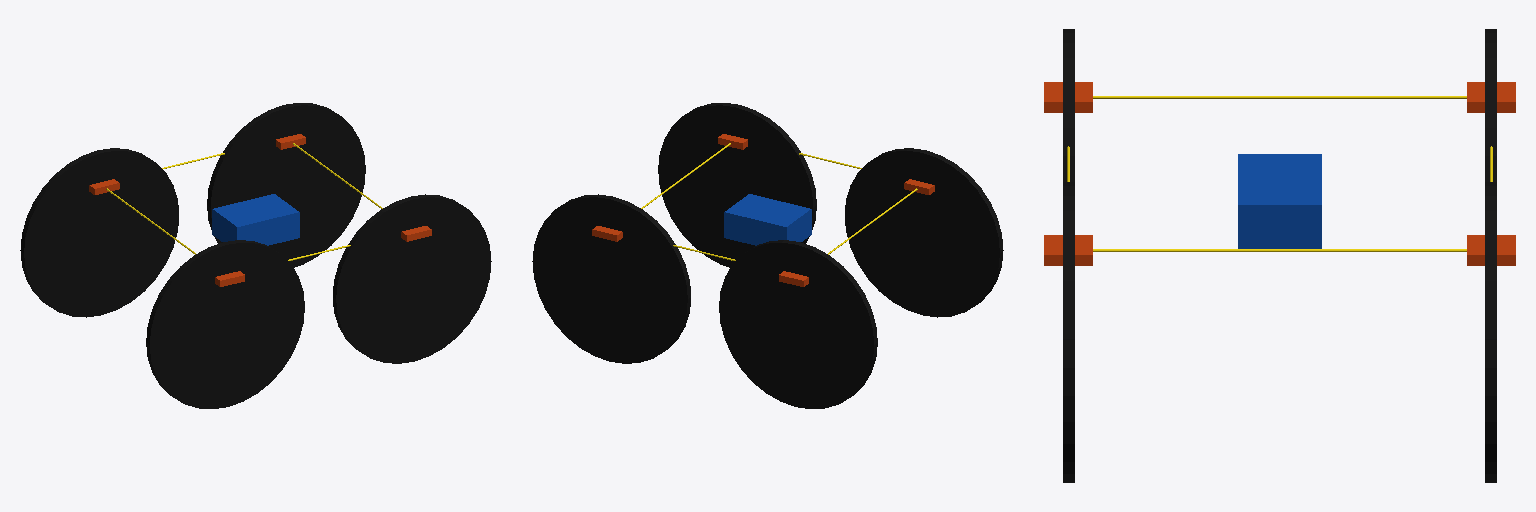
robot.urdf — goat:
<?xml version="1.0"?>
<!--
  GOAT Robot URDF — Version 5 (Separate Bodies with Soft Joints)
  
  KEY FIX: Use revolute joints with high stiffness instead of fixed joints
  This keeps segments, lenses, eyelets as SEPARATE BODIES visible to Genesis
  while maintaining rigid structure via joint damping/friction.
  
  Genesis would merge fixed-joint connects into single body,
  but revolute joints with friction keep things separate and force-addressable.
-->
<robot name="goat">

  <material name="fiberglass"><color rgba="0.95 0.85 0.10 1.0"/></material>
  <material name="payload_box"><color rgba="0.10 0.35 0.70 1.0"/></material>
  <material name="wheel_dark"><color rgba="0.12 0.12 0.12 1.0"/></material>
  <material name="connector"><color rgba="0.80 0.30 0.10 1.0"/></material>

  <!-- BASE PAYLOAD (1.8 kg) -->
  <link name="payload">
    <visual>
      <origin xyz="0 0 0" rpy="0 0 0"/>
      <geometry><box size="0.20 0.14 0.08"/></geometry>
      <material name="payload_box"/>
    </visual>
    <collision>
      <origin xyz="0 0 0" rpy="0 0 0"/>
      <geometry><box size="0.20 0.14 0.08"/></geometry>
    </collision>
    <inertial>
      <origin xyz="0 0 0" rpy="0 0 0"/>
      <mass value="1.80"/>
      <inertia ixx="0.003940" ixy="0" ixz="0"
               iyy="0.005150" iyz="0"
               izz="0.006720"/>
    </inertial>
  </link>

  <!-- ════════════════════════════════════════════════════════════════════
       CORNER 1: FRONT-LEFT (0.30, +0.35)
  ════════════════════════════════════════════════════════════════════ -->
  
  <link name="lens_FL">
    <visual>
      <origin xyz="0 0 0" rpy="0 0 0"/>
      <geometry><box size="0.08 0.08 0.02"/></geometry>
      <material name="connector"/>
    </visual>
    <collision>
      <origin xyz="0 0 0" rpy="0 0 0"/>
      <geometry><box size="0.08 0.08 0.02"/></geometry>
    </collision>
    <inertial>
      <origin xyz="0 0 0" rpy="0 0 0"/>
      <mass value="0.010"/>
      <inertia ixx="0.000011" ixy="0" ixz="0"
               iyy="0.000011" iyz="0"
               izz="0.000011"/>
    </inertial>
  </link>
  <!-- Use revolute joint with high stiffness to keep as separate body -->
  <joint name="j_payload_to_lens_FL" type="revolute">
    <parent link="payload"/>
    <child link="lens_FL"/>
    <origin xyz="0.30 0.35 0.05" rpy="0 0 0"/>
    <axis xyz="0 0 1"/>
    <limit lower="-0.001" upper="0.001" effort="100" velocity="10"/>
    <dynamics damping="50" friction="50"/>
  </joint>

  <!-- Wheel FL -->
  <link name="wheel_FL">
    <visual>
      <origin xyz="0 0 0" rpy="1.5708 0 0"/>
      <geometry><cylinder radius="0.2500" length="0.02"/></geometry>
      <material name="wheel_dark"/>
    </visual>
    <collision>
      <origin xyz="0 0 0" rpy="1.5708 0 0"/>
      <geometry><cylinder radius="0.2500" length="0.02"/></geometry>
    </collision>
    <inertial>
      <origin xyz="0 0 0" rpy="1.5708 0 0"/>
      <mass value="0.050"/>
      <inertia ixx="0.000800" ixy="0" ixz="0"
               iyy="0.001550" iyz="0"
               izz="0.000800"/>
    </inertial>
  </link>
  <joint name="wheel_FL_joint" type="continuous">
    <parent link="lens_FL"/>
    <child link="wheel_FL"/>
    <origin xyz="0 0 -0.15" rpy="0 0 0"/>
    <axis xyz="0 1 0"/>
    <dynamics damping="0.3" friction="0.05"/>
  </joint>

  <!-- Eyelet F (Front) -->
  <link name="eyelet_F">
    <visual>
      <origin xyz="0 0 0" rpy="0 0 0"/>
      <geometry><sphere radius="0.008"/></geometry>
      <material name="connector"/>
    </visual>
    <collision>
      <origin xyz="0 0 0" rpy="0 0 0"/>
      <geometry><sphere radius="0.008"/></geometry>
    </collision>
    <inertial>
      <origin xyz="0 0 0" rpy="0 0 0"/>
      <mass value="0.002"/>
      <inertia ixx="0.000001" ixy="0" ixz="0"
               iyy="0.000001" iyz="0"
               izz="0.000001"/>
    </inertial>
  </link>
  <joint name="j_lens_FL_to_eyelet_F" type="revolute">
    <parent link="lens_FL"/>
    <child link="eyelet_F"/>
    <origin xyz="0 0 -0.01" rpy="0 0 0"/>
    <axis xyz="1 0 0"/>
    <limit lower="-0.001" upper="0.001" effort="100" velocity="10"/>
    <dynamics damping="50" friction="50"/>
  </joint>

  <!-- SEGMENT 1: FRONT (0.70m, Y-axis) -->
  <link name="seg_front">
    <visual>
      <origin xyz="0 0 0" rpy="1.5708 0 0"/>
      <geometry><cylinder radius="0.0025" length="0.70"/></geometry>
      <material name="fiberglass"/>
    </visual>
    <collision>
      <origin xyz="0 0 0" rpy="1.5708 0 0"/>
      <geometry><cylinder radius="0.0025" length="0.70"/></geometry>
    </collision>
    <inertial>
      <origin xyz="0 0 0" rpy="1.5708 0 0"/>
      <mass value="0.09"/>
      <inertia ixx="0.00000062" ixy="0" ixz="0"
               iyy="0.0029167" iyz="0"
               izz="0.0029167"/>
    </inertial>
  </link>
  <joint name="j_payload_to_seg_front" type="revolute">
    <parent link="payload"/>
    <child link="seg_front"/>
    <origin xyz="0.30 0 0.05" rpy="0 0 0"/>
    <axis xyz="0 0 1"/>
    <limit lower="-0.001" upper="0.001" effort="100" velocity="10"/>
    <dynamics damping="50" friction="50"/>
  </joint>

  <!-- ════════════════════════════════════════════════════════════════════
       CORNER 2: FRONT-RIGHT (0.30, -0.35)
  ════════════════════════════════════════════════════════════════════ -->
  
  <link name="lens_FR">
    <visual>
      <origin xyz="0 0 0" rpy="0 0 0"/>
      <geometry><box size="0.08 0.08 0.02"/></geometry>
      <material name="connector"/>
    </visual>
    <collision>
      <origin xyz="0 0 0" rpy="0 0 0"/>
      <geometry><box size="0.08 0.08 0.02"/></geometry>
    </collision>
    <inertial>
      <origin xyz="0 0 0" rpy="0 0 0"/>
      <mass value="0.010"/>
      <inertia ixx="0.000011" ixy="0" ixz="0"
               iyy="0.000011" iyz="0"
               izz="0.000011"/>
    </inertial>
  </link>
  <joint name="j_payload_to_lens_FR" type="revolute">
    <parent link="payload"/>
    <child link="lens_FR"/>
    <origin xyz="0.30 -0.35 0.05" rpy="0 0 0"/>
    <axis xyz="0 0 1"/>
    <limit lower="-0.001" upper="0.001" effort="100" velocity="10"/>
    <dynamics damping="50" friction="50"/>
  </joint>

  <!-- Wheel FR -->
  <link name="wheel_FR">
    <visual>
      <origin xyz="0 0 0" rpy="1.5708 0 0"/>
      <geometry><cylinder radius="0.2500" length="0.02"/></geometry>
      <material name="wheel_dark"/>
    </visual>
    <collision>
      <origin xyz="0 0 0" rpy="1.5708 0 0"/>
      <geometry><cylinder radius="0.2500" length="0.02"/></geometry>
    </collision>
    <inertial>
      <origin xyz="0 0 0" rpy="1.5708 0 0"/>
      <mass value="0.050"/>
      <inertia ixx="0.001550" ixy="0" ixz="0"
               iyy="0.000800" iyz="0"
               izz="0.000800"/>
    </inertial>
  </link>
  <joint name="wheel_FR_joint" type="continuous">
    <parent link="lens_FR"/>
    <child link="wheel_FR"/>
    <origin xyz="0 0 -0.15" rpy="0 0 0"/>
    <axis xyz="1 0 0"/>
    <dynamics damping="0.3" friction="0.05"/>
  </joint>

  <!-- Eyelet R (Right) -->
  <link name="eyelet_R">
    <visual>
      <origin xyz="0 0 0" rpy="0 0 0"/>
      <geometry><sphere radius="0.008"/></geometry>
      <material name="connector"/>
    </visual>
    <collision>
      <origin xyz="0 0 0" rpy="0 0 0"/>
      <geometry><sphere radius="0.008"/></geometry>
    </collision>
    <inertial>
      <origin xyz="0 0 0" rpy="0 0 0"/>
      <mass value="0.002"/>
      <inertia ixx="0.000001" ixy="0" ixz="0"
               iyy="0.000001" iyz="0"
               izz="0.000001"/>
    </inertial>
  </link>
  <joint name="j_lens_FR_to_eyelet_R" type="revolute">
    <parent link="lens_FR"/>
    <child link="eyelet_R"/>
    <origin xyz="0 0 -0.01" rpy="0 0 0"/>
    <axis xyz="1 0 0"/>
    <limit lower="-0.001" upper="0.001" effort="100" velocity="10"/>
    <dynamics damping="50" friction="50"/>
  </joint>

  <!-- SEGMENT 2: RIGHT (0.60m, X-axis) -->
  <link name="seg_right">
    <visual>
      <origin xyz="0 0 0" rpy="0 1.5708 0"/>
      <geometry><cylinder radius="0.0025" length="0.60"/></geometry>
      <material name="fiberglass"/>
    </visual>
    <collision>
      <origin xyz="0 0 0" rpy="0 1.5708 0"/>
      <geometry><cylinder radius="0.0025" length="0.60"/></geometry>
    </collision>
    <inertial>
      <origin xyz="0 0 0" rpy="0 1.5708 0"/>
      <mass value="0.08"/>
      <inertia ixx="0.00000062" ixy="0" ixz="0"
               iyy="0.0020000" iyz="0"
               izz="0.0020000"/>
    </inertial>
  </link>
  <joint name="j_payload_to_seg_right" type="revolute">
    <parent link="payload"/>
    <child link="seg_right"/>
    <origin xyz="0 -0.35 0.05" rpy="0 0 0"/>
    <axis xyz="0 0 1"/>
    <limit lower="-0.001" upper="0.001" effort="100" velocity="10"/>
    <dynamics damping="50" friction="50"/>
  </joint>

  <!-- ════════════════════════════════════════════════════════════════════
       CORNER 3: REAR-RIGHT (-0.30, -0.35)
  ════════════════════════════════════════════════════════════════════ -->
  
  <link name="lens_RR">
    <visual>
      <origin xyz="0 0 0" rpy="0 0 0"/>
      <geometry><box size="0.08 0.08 0.02"/></geometry>
      <material name="connector"/>
    </visual>
    <collision>
      <origin xyz="0 0 0" rpy="0 0 0"/>
      <geometry><box size="0.08 0.08 0.02"/></geometry>
    </collision>
    <inertial>
      <origin xyz="0 0 0" rpy="0 0 0"/>
      <mass value="0.010"/>
      <inertia ixx="0.000011" ixy="0" ixz="0"
               iyy="0.000011" iyz="0"
               izz="0.000011"/>
    </inertial>
  </link>
  <joint name="j_payload_to_lens_RR" type="revolute">
    <parent link="payload"/>
    <child link="lens_RR"/>
    <origin xyz="-0.30 -0.35 0.05" rpy="0 0 0"/>
    <axis xyz="0 0 1"/>
    <limit lower="-0.001" upper="0.001" effort="100" velocity="10"/>
    <dynamics damping="50" friction="50"/>
  </joint>

  <!-- Wheel RR -->
  <link name="wheel_RR">
    <visual>
      <origin xyz="0 0 0" rpy="1.5708 0 0"/>
      <geometry><cylinder radius="0.2500" length="0.02"/></geometry>
      <material name="wheel_dark"/>
    </visual>
    <collision>
      <origin xyz="0 0 0" rpy="1.5708 0 0"/>
      <geometry><cylinder radius="0.2500" length="0.02"/></geometry>
    </collision>
    <inertial>
      <origin xyz="0 0 0" rpy="1.5708 0 0"/>
      <mass value="0.050"/>
      <inertia ixx="0.001550" ixy="0" ixz="0"
               iyy="0.000800" iyz="0"
               izz="0.000800"/>
    </inertial>
  </link>
  <joint name="wheel_RR_joint" type="continuous">
    <parent link="lens_RR"/>
    <child link="wheel_RR"/>
    <origin xyz="0 0 -0.15" rpy="0 0 0"/>
    <axis xyz="1 0 0"/>
    <dynamics damping="0.3" friction="0.05"/>
  </joint>

  <!-- Eyelet B (Back) -->
  <link name="eyelet_B">
    <visual>
      <origin xyz="0 0 0" rpy="0 0 0"/>
      <geometry><sphere radius="0.008"/></geometry>
      <material name="connector"/>
    </visual>
    <collision>
      <origin xyz="0 0 0" rpy="0 0 0"/>
      <geometry><sphere radius="0.008"/></geometry>
    </collision>
    <inertial>
      <origin xyz="0 0 0" rpy="0 0 0"/>
      <mass value="0.002"/>
      <inertia ixx="0.000001" ixy="0" ixz="0"
               iyy="0.000001" iyz="0"
               izz="0.000001"/>
    </inertial>
  </link>
  <joint name="j_lens_RR_to_eyelet_B" type="revolute">
    <parent link="lens_RR"/>
    <child link="eyelet_B"/>
    <origin xyz="0 0 -0.01" rpy="0 0 0"/>
    <axis xyz="1 0 0"/>
    <limit lower="-0.001" upper="0.001" effort="100" velocity="10"/>
    <dynamics damping="50" friction="50"/>
  </joint>

  <!-- SEGMENT 3: BACK (0.70m, Y-axis) -->
  <link name="seg_back">
    <visual>
      <origin xyz="0 0 0" rpy="1.5708 0 0"/>
      <geometry><cylinder radius="0.0025" length="0.70"/></geometry>
      <material name="fiberglass"/>
    </visual>
    <collision>
      <origin xyz="0 0 0" rpy="1.5708 0 0"/>
      <geometry><cylinder radius="0.0025" length="0.70"/></geometry>
    </collision>
    <inertial>
      <origin xyz="0 0 0" rpy="1.5708 0 0"/>
      <mass value="0.09"/>
      <inertia ixx="0.00000062" ixy="0" ixz="0"
               iyy="0.0029167" iyz="0"
               izz="0.0029167"/>
    </inertial>
  </link>
  <joint name="j_payload_to_seg_back" type="revolute">
    <parent link="payload"/>
    <child link="seg_back"/>
    <origin xyz="-0.30 0 0.05" rpy="0 0 0"/>
    <axis xyz="0 0 1"/>
    <limit lower="-0.001" upper="0.001" effort="100" velocity="10"/>
    <dynamics damping="50" friction="50"/>
  </joint>

  <!-- ════════════════════════════════════════════════════════════════════
       CORNER 4: REAR-LEFT (-0.30, +0.35)
  ════════════════════════════════════════════════════════════════════ -->
  
  <link name="lens_RL">
    <visual>
      <origin xyz="0 0 0" rpy="0 0 0"/>
      <geometry><box size="0.08 0.08 0.02"/></geometry>
      <material name="connector"/>
    </visual>
    <collision>
      <origin xyz="0 0 0" rpy="0 0 0"/>
      <geometry><box size="0.08 0.08 0.02"/></geometry>
    </collision>
    <inertial>
      <origin xyz="0 0 0" rpy="0 0 0"/>
      <mass value="0.010"/>
      <inertia ixx="0.000011" ixy="0" ixz="0"
               iyy="0.000011" iyz="0"
               izz="0.000011"/>
    </inertial>
  </link>
  <joint name="j_payload_to_lens_RL" type="revolute">
    <parent link="payload"/>
    <child link="lens_RL"/>
    <origin xyz="-0.30 0.35 0.05" rpy="0 0 0"/>
    <axis xyz="0 0 1"/>
    <limit lower="-0.001" upper="0.001" effort="100" velocity="10"/>
    <dynamics damping="50" friction="50"/>
  </joint>

  <!-- Wheel RL -->
  <link name="wheel_RL">
    <visual>
      <origin xyz="0 0 0" rpy="1.5708 0 0"/>
      <geometry><cylinder radius="0.2500" length="0.02"/></geometry>
      <material name="wheel_dark"/>
    </visual>
    <collision>
      <origin xyz="0 0 0" rpy="1.5708 0 0"/>
      <geometry><cylinder radius="0.2500" length="0.02"/></geometry>
    </collision>
    <inertial>
      <origin xyz="0 0 0" rpy="1.5708 0 0"/>
      <mass value="0.050"/>
      <inertia ixx="0.000800" ixy="0" ixz="0"
               iyy="0.001550" iyz="0"
               izz="0.000800"/>
    </inertial>
  </link>
  <joint name="wheel_RL_joint" type="continuous">
    <parent link="lens_RL"/>
    <child link="wheel_RL"/>
    <origin xyz="0 0 -0.15" rpy="0 0 0"/>
    <axis xyz="0 1 0"/>
    <dynamics damping="0.3" friction="0.05"/>
  </joint>

  <!-- Eyelet L (Left) -->
  <link name="eyelet_L">
    <visual>
      <origin xyz="0 0 0" rpy="0 0 0"/>
      <geometry><sphere radius="0.008"/></geometry>
      <material name="connector"/>
    </visual>
    <collision>
      <origin xyz="0 0 0" rpy="0 0 0"/>
      <geometry><sphere radius="0.008"/></geometry>
    </collision>
    <inertial>
      <origin xyz="0 0 0" rpy="0 0 0"/>
      <mass value="0.002"/>
      <inertia ixx="0.000001" ixy="0" ixz="0"
               iyy="0.000001" iyz="0"
               izz="0.000001"/>
    </inertial>
  </link>
  <joint name="j_lens_RL_to_eyelet_L" type="revolute">
    <parent link="lens_RL"/>
    <child link="eyelet_L"/>
    <origin xyz="0 0 -0.01" rpy="0 0 0"/>
    <axis xyz="1 0 0"/>
    <limit lower="-0.001" upper="0.001" effort="100" velocity="10"/>
    <dynamics damping="50" friction="50"/>
  </joint>

  <!-- SEGMENT 4: LEFT (0.60m, X-axis) -->
  <link name="seg_left">
    <visual>
      <origin xyz="0 0 0" rpy="0 1.5708 0"/>
      <geometry><cylinder radius="0.0025" length="0.60"/></geometry>
      <material name="fiberglass"/>
    </visual>
    <collision>
      <origin xyz="0 0 0" rpy="0 1.5708 0"/>
      <geometry><cylinder radius="0.0025" length="0.60"/></geometry>
    </collision>
    <inertial>
      <origin xyz="0 0 0" rpy="0 1.5708 0"/>
      <mass value="0.08"/>
      <inertia ixx="0.00000062" ixy="0" ixz="0"
               iyy="0.0020000" iyz="0"
               izz="0.0020000"/>
    </inertial>
  </link>
  <joint name="j_payload_to_seg_left" type="revolute">
    <parent link="payload"/>
    <child link="seg_left"/>
    <origin xyz="0 0.35 0.05" rpy="0 0 0"/>
    <axis xyz="0 0 1"/>
    <limit lower="-0.001" upper="0.001" effort="100" velocity="10"/>
    <dynamics damping="50" friction="50"/>
  </joint>

</robot>

--- Render facts (derived) ---
The picture shows the robot from 3 angles, left to right: view 1: azimuth 30°, elevation 25°; view 2: azimuth 150°, elevation 25°; view 3: azimuth 270°, elevation 25°; orthographic projection.
Model goat with 17 links and 16 joints (12 revolute, 4 continuous), rooted at payload, posed all joints at 0.
Visible links, largest first — view 1: wheel_RR, wheel_FR, wheel_RL, wheel_FL, payload; view 2: wheel_RL, wheel_FL, wheel_RR, wheel_FR, payload; view 3: payload, wheel_FL, wheel_FR, wheel_RR, wheel_RL, lens_FL, lens_FR, lens_RR, lens_RL, seg_front, seg_back.
Boxes of the visible links, <box> form: wheel_RR: <box>146,240,304,408</box>; wheel_FR: <box>333,194,491,363</box>; wheel_RL: <box>20,148,178,317</box>; wheel_FL: <box>207,103,365,267</box>; payload: <box>212,194,299,245</box>; wheel_RL: <box>719,240,877,408</box>; wheel_FL: <box>532,194,690,363</box>; wheel_RR: <box>845,148,1003,317</box>; wheel_FR: <box>658,103,816,267</box>; payload: <box>724,194,811,245</box>; payload: <box>1238,154,1321,248</box>; wheel_FL: <box>1485,182,1496,482</box>; wheel_FR: <box>1063,182,1074,482</box>; wheel_RR: <box>1063,29,1074,181</box>; wheel_RL: <box>1485,29,1496,181</box>; lens_FL: <box>1467,235,1515,265</box>; lens_FR: <box>1044,235,1092,265</box>; lens_RR: <box>1044,82,1092,112</box>; lens_RL: <box>1467,82,1515,112</box>; seg_front: <box>1093,249,1466,251</box>; seg_back: <box>1093,96,1466,98</box>.
Bounding box of the posed robot: 1.1 × 0.78 × 0.5 m (x, y, z).
Geometry: primitives only (box / cylinder / sphere), no mesh files.
